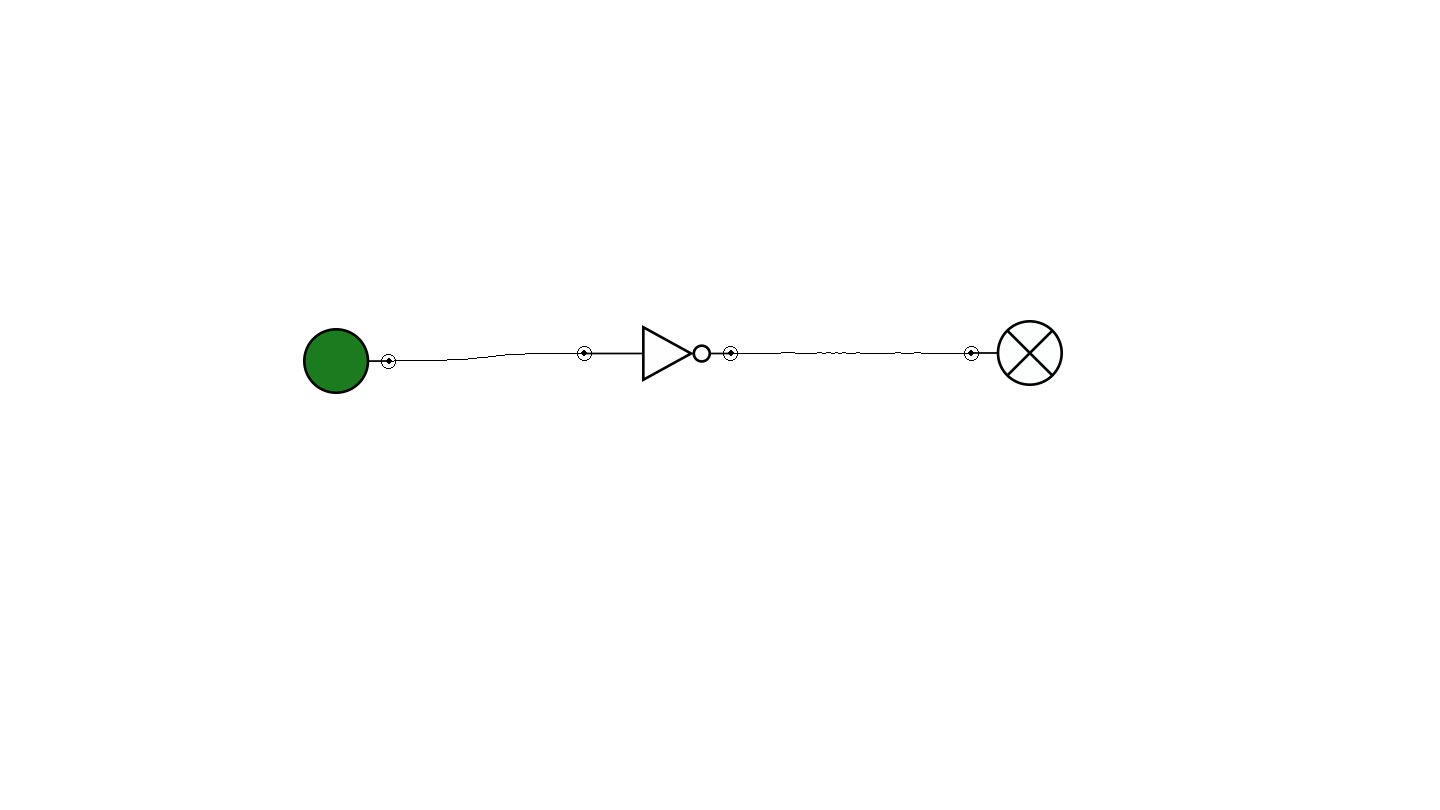bulb: (964, 320, 1063, 386)
not: (577, 325, 738, 382)
switch_True: (303, 328, 396, 394)
